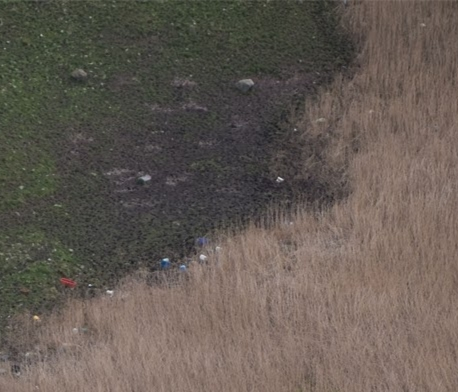scattered_barrel: (31, 271, 121, 336), (156, 227, 231, 284)
